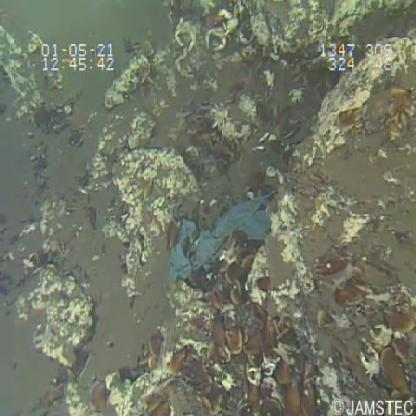Rác: (160, 185, 278, 288)
